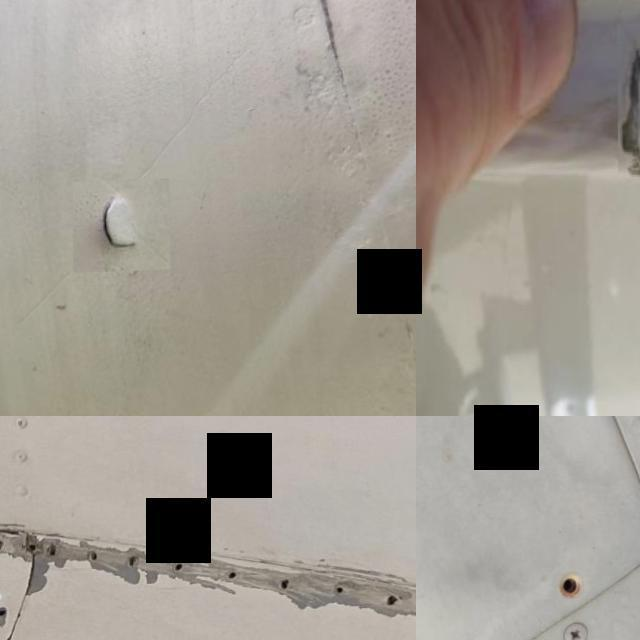Crack: (72, 180, 170, 274), (618, 43, 640, 184), (0, 515, 43, 545)
Missing_Fastener: (542, 557, 604, 619), (437, 628, 493, 640), (226, 570, 238, 584), (278, 582, 292, 594), (87, 552, 99, 564), (386, 597, 396, 611), (172, 564, 184, 574), (333, 590, 345, 598), (0, 608, 7, 618)
